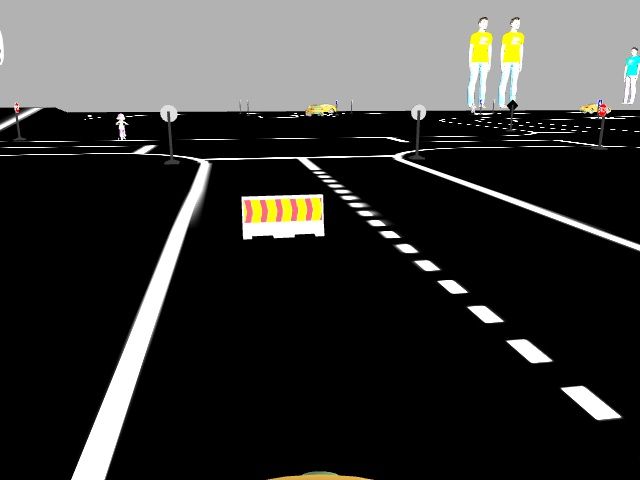ClosedRoadStand: (241, 196, 324, 235)
